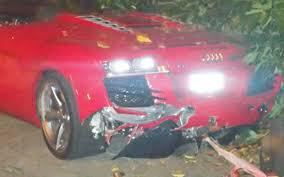front-bumper-dent: (87, 106, 235, 149)
